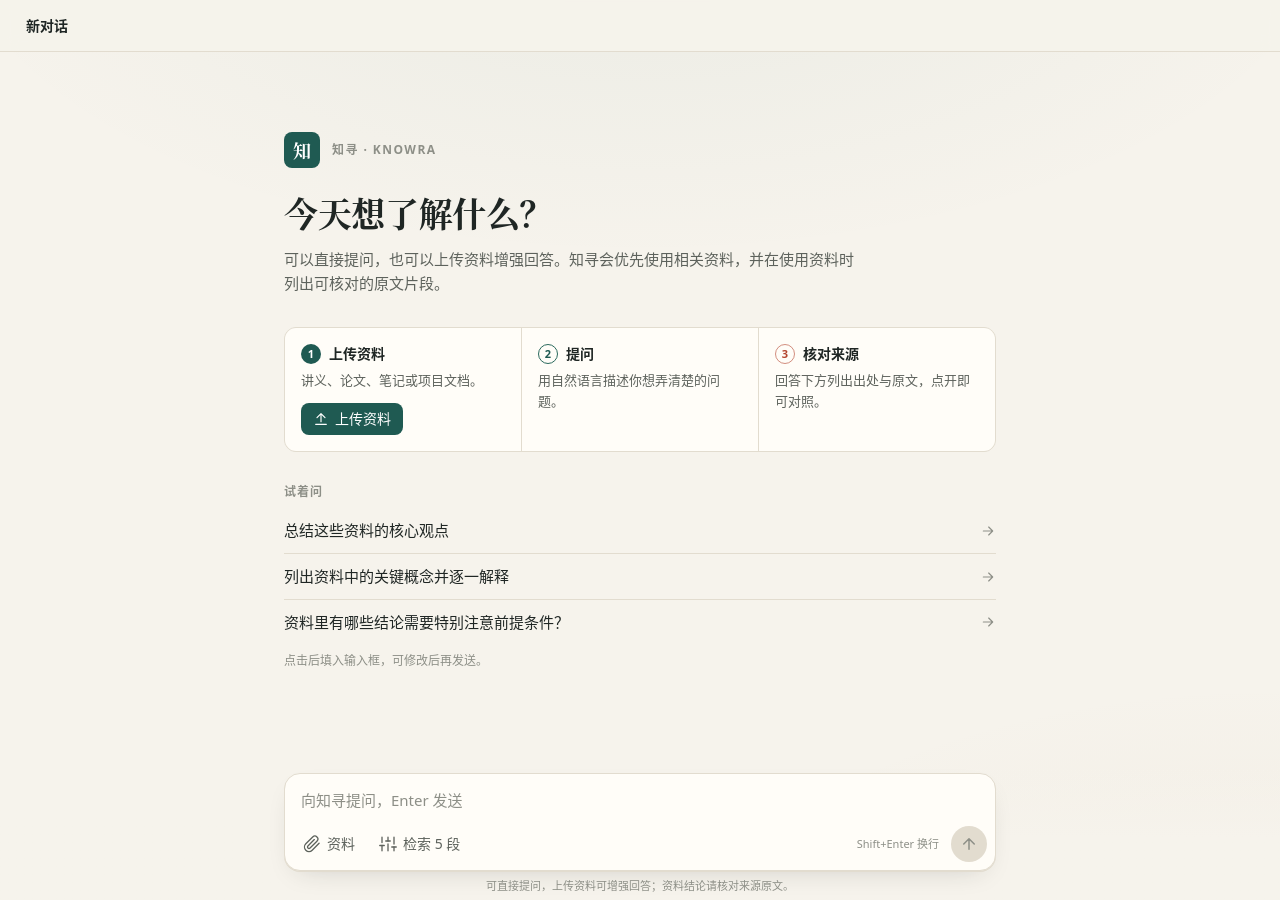
ChatArea 欢迎页交互 › 点击推荐问题填入输入框并聚焦，不发送
Click the button with test id "welcome-suggestion".
click(367, 530)  # box [284,508,996,553]
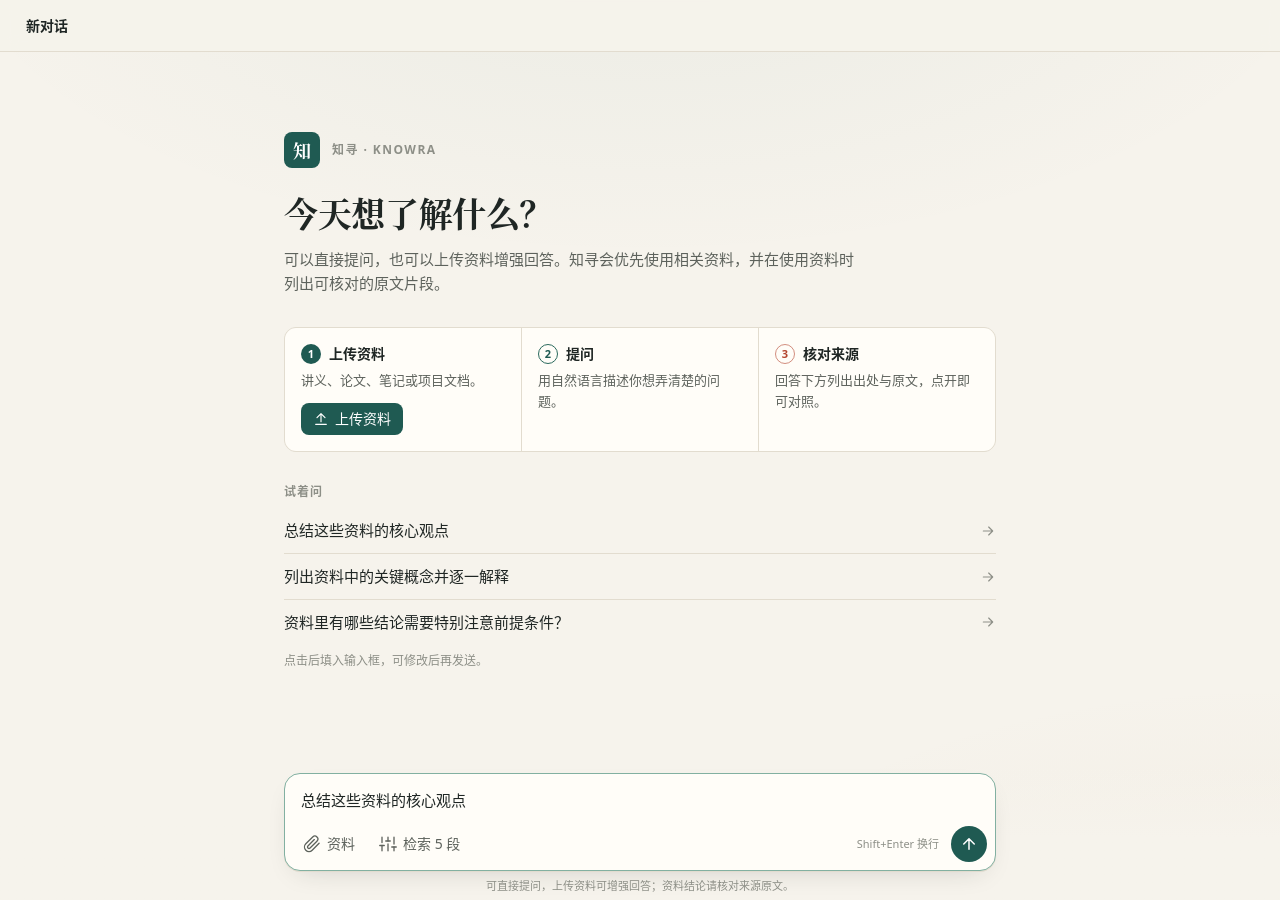
Expected: the element with test id "welcome-view" is shown, [284,68,996,733]
Result: the text box with test id "chat-input" holds "总结这些资料的核心观点" at [285,774,995,826]
